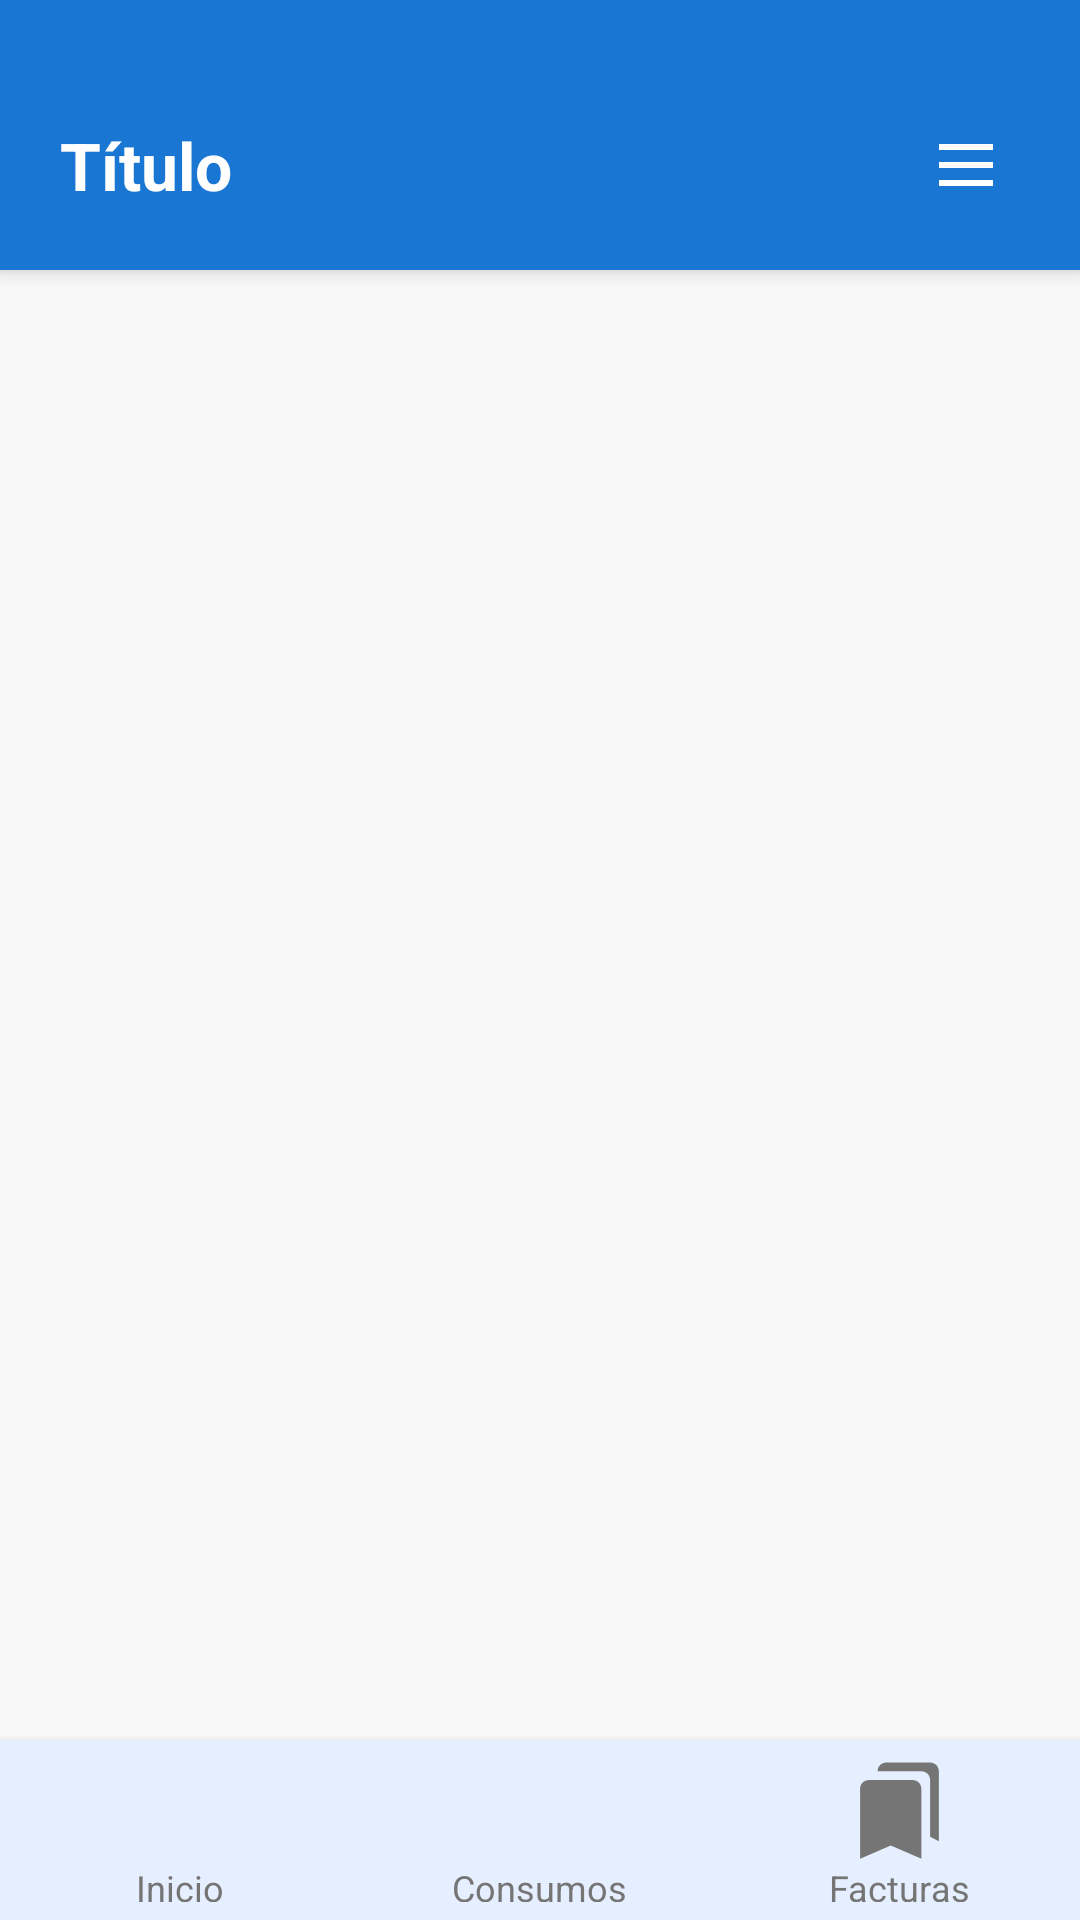

Icon click points for this 1080px x 1920px phone screenshot, format point (x, y):
Menú principal: point (966, 165)
